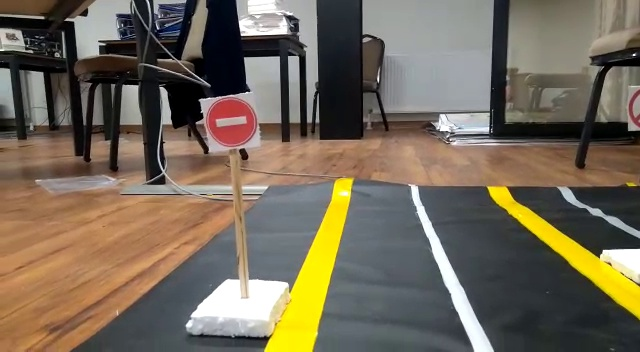girisi_olmayan_yol: (207, 97, 258, 148)
